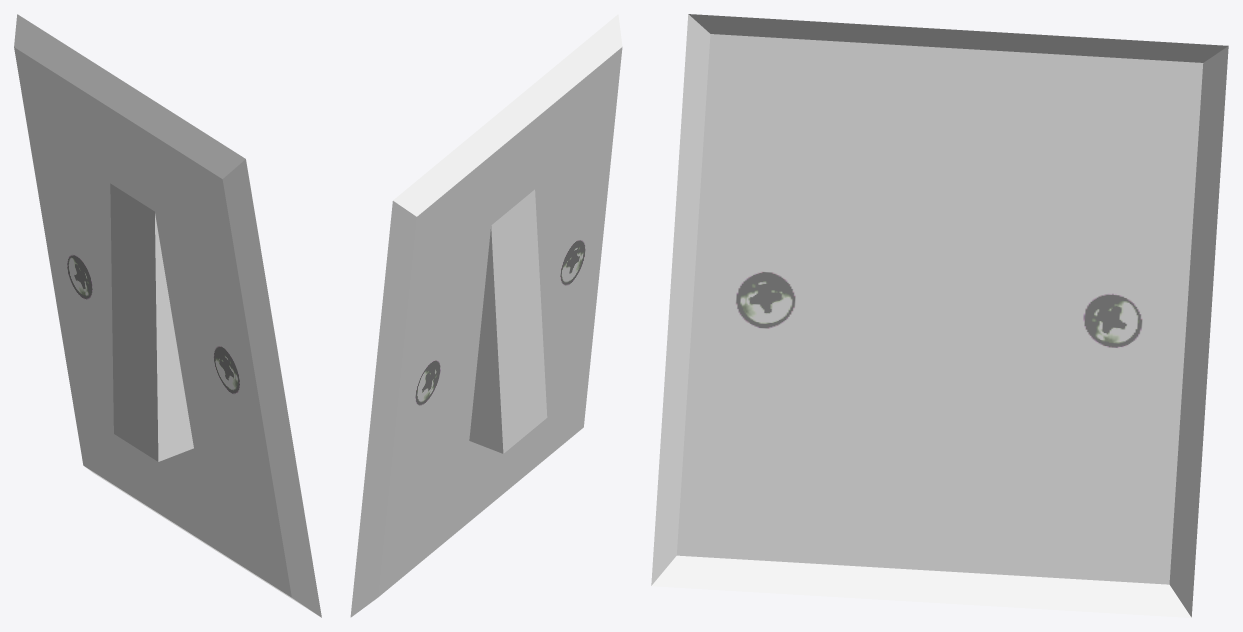
File: lightswitch.glb
3 views of the same model, side by side, from view 1: azimuth 30°, elevation 25°; view 2: azimuth 150°, elevation 25°; view 3: azimuth 270°, elevation 25° (orthographic). The views are drawn at different scales.
Parts seen in each view (by area): view 1: lightswitch; view 2: lightswitch; view 3: lightswitch.
Boxes of the visible parts, left/top/right/bottom form: lightswitch: left=14, top=14, right=321, bottom=617; lightswitch: left=350, top=14, right=622, bottom=617; lightswitch: left=651, top=14, right=1228, bottom=617.
Bounding box in the file's own units: 0.4844 × 2.92 × 2.69.
1 material, 1 textured.
